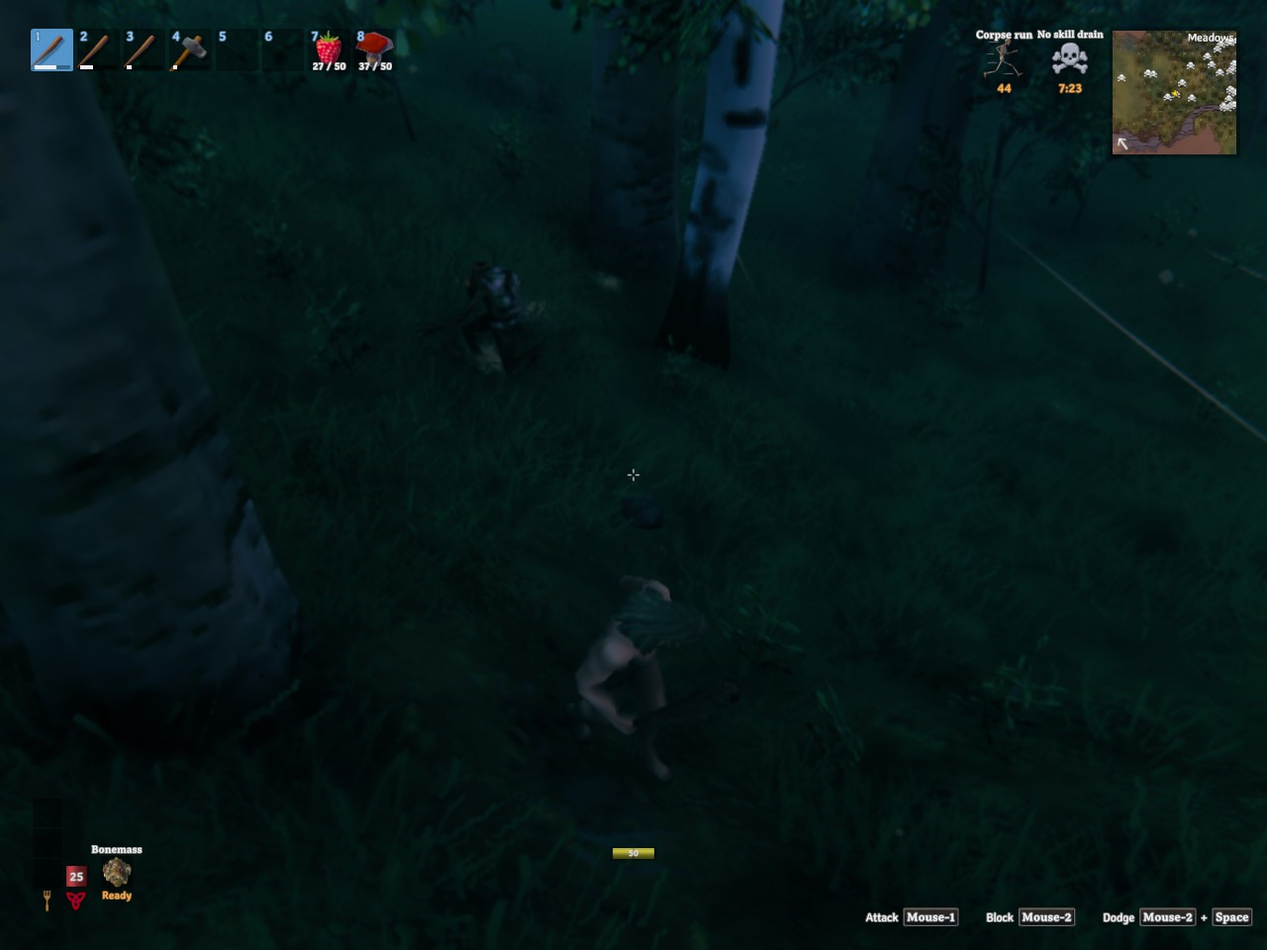Greyling: (461, 261, 526, 371)
